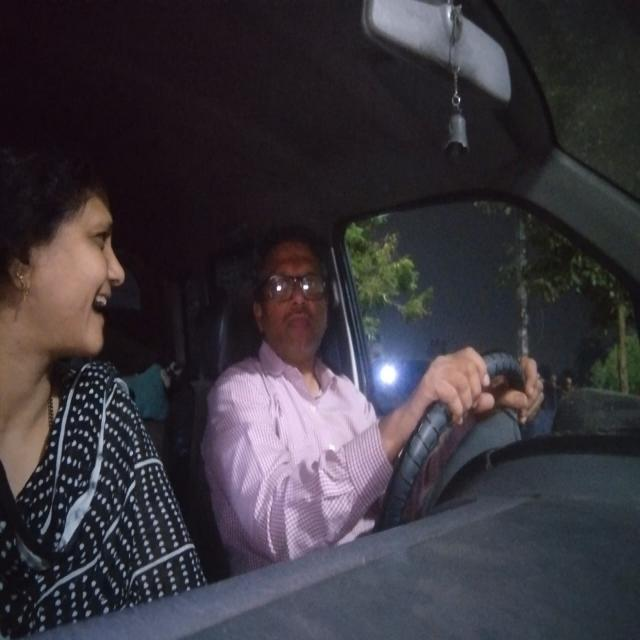LeftRight: (242, 220, 340, 373)
person: (1, 141, 127, 370)
